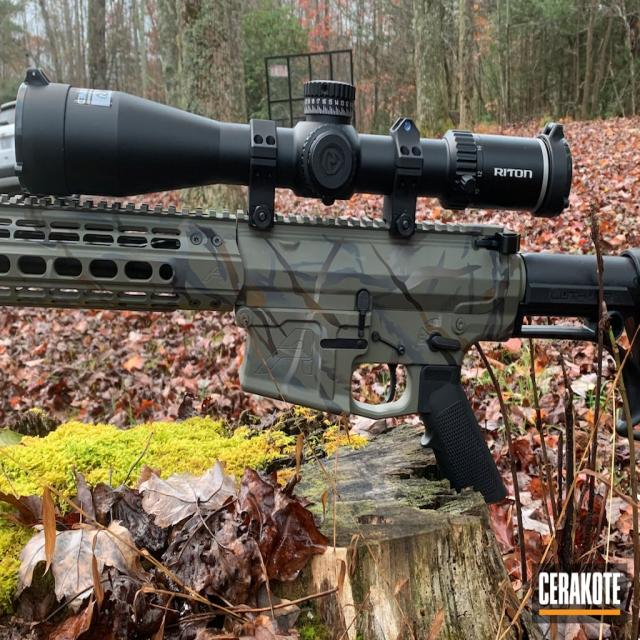Rifle: (0, 72, 640, 506)
